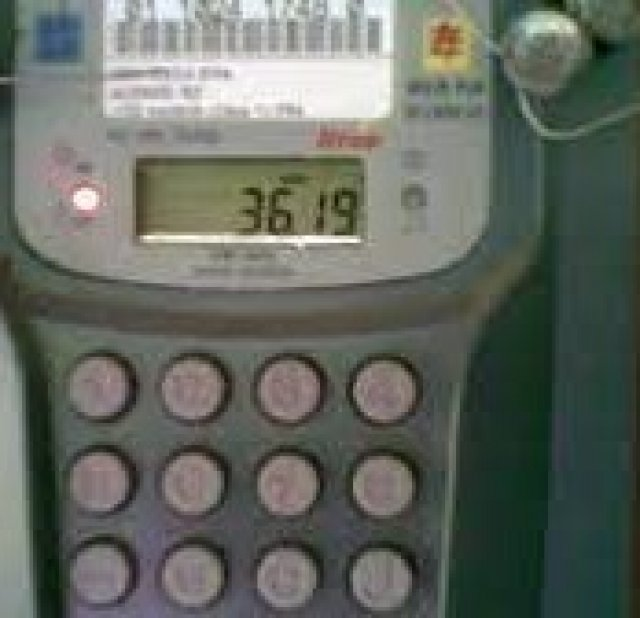box: (133, 156, 366, 238)
